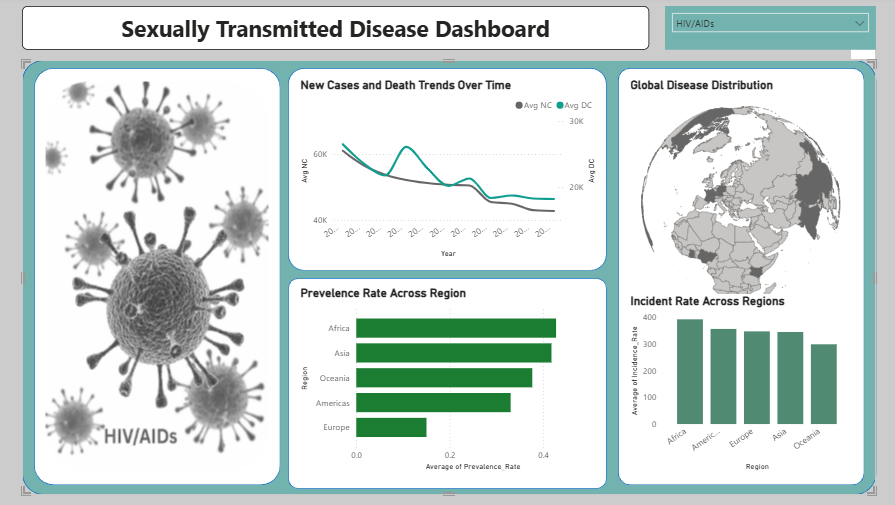

Layout of this report page (visuals, bound fields, positions):
{"tool":"powerbi","page":{"name":"Page 1","canvas":[1280,720],"ordinal":0},"visuals":[{"type":"shape","box":[33.6,89,1211.1,616.5],"z":0},{"type":"textbox","box":[33.6,13.4,888.6,62.2],"z":1000},{"type":"slicer","fields":{"Values":["Health Image Dataset.Disease"]},"box":[945.7,13.4,299,62.2],"z":2000},{"type":"shape","box":[878.5,100.8,349.4,591.3],"z":3000},{"type":"shape","box":[50.4,100.8,349.4,591.3],"z":4000},{"type":"shape","box":[411.5,100.8,451.9,287.2],"z":5000},{"type":"shape","box":[411.5,398.1,451.9,299],"z":6000},{"type":"imageDB603108E3FF4EBFB8047F5653368E8C","fields":{"imageUrl":["Health Image Dataset.Image URL"]},"box":[62.2,114.2,325.9,562.7],"z":7000},{"type":"lineChart","title":"New Cases and Death Trends Over Time","fields":{"Category":["Health Dataset.Year"],"Y":["Avg(Health Dataset.New_Cases)"],"Y2":["Avg(Health Dataset.Deaths)"]},"box":[423.3,114.2,428.3,258.7],"z":8000},{"type":"clusteredBarChart","title":"Prevelence Rate Across Region","fields":{"Category":["Health Dataset.Region"],"Y":["Avg(Health Dataset.Prevalence_Rate)"]},"box":[423.3,409.9,428.3,267.1],"z":10000},{"type":"shapeMap","title":"Global Disease Distribution","fields":{"Category":["Health Dataset.Country"]},"box":[892,114.2,322.5,337.6],"z":10001},{"type":"clusteredColumnChart","title":"Incident Rate Across Regions","fields":{"Category":["Health Dataset.Region"],"Y":["Avg(Health Dataset.Incidence_Rate)"]},"box":[892,421.6,322.5,255.3],"z":10002}]}

Visuals, with their boxes in screenshot pixels (x1, y1, x2, y2), scaled from the page's 1280x720 canvas onto the 895x505 screenshot:
shape: <bbox>23, 62, 870, 495</bbox>
textbox: <bbox>23, 9, 645, 53</bbox>
slicer - Health Image Dataset.Disease: <bbox>661, 9, 870, 53</bbox>
shape: <bbox>614, 71, 859, 485</bbox>
shape: <bbox>35, 71, 280, 485</bbox>
shape: <bbox>288, 71, 604, 272</bbox>
shape: <bbox>288, 279, 604, 489</bbox>
imageDB603108E3FF4EBFB8047F5653368E8C - Health Image Dataset.Image URL: <bbox>43, 80, 271, 475</bbox>
"New Cases and Death Trends Over Time" lineChart: <bbox>296, 80, 595, 262</bbox>
"Prevelence Rate Across Region" clusteredBarChart: <bbox>296, 287, 595, 475</bbox>
"Global Disease Distribution" shapeMap: <bbox>624, 80, 849, 317</bbox>
"Incident Rate Across Regions" clusteredColumnChart: <bbox>624, 296, 849, 475</bbox>
